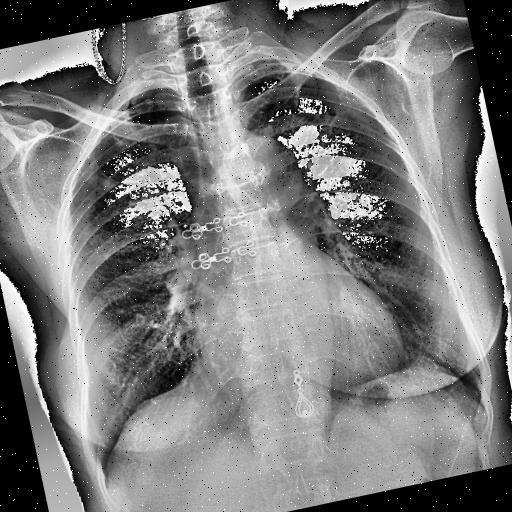0- Aortic enlargement: (216, 126, 318, 232), (218, 127, 314, 223), (218, 128, 312, 226)
11- Pleural thickening: (408, 350, 434, 378)
13- Pulmonary fibrosis: (270, 62, 314, 134), (287, 81, 309, 129), (84, 170, 118, 194), (111, 198, 139, 217), (106, 130, 126, 150), (110, 129, 126, 147)
2- Calcification: (96, 174, 118, 194), (125, 196, 138, 210)
5- ILD: (284, 134, 479, 404), (55, 222, 217, 456)
8- Nodule-Mass: (130, 210, 154, 230), (96, 174, 118, 194), (101, 176, 114, 191), (125, 196, 138, 210)
